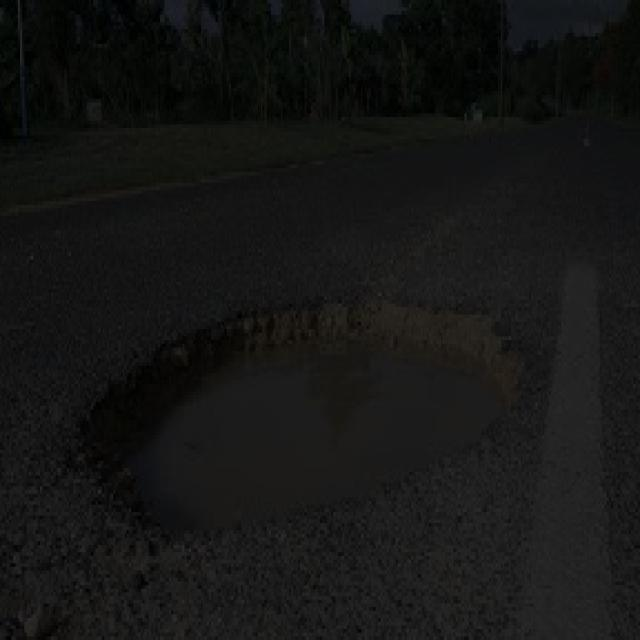pothole: (52, 253, 552, 563)
